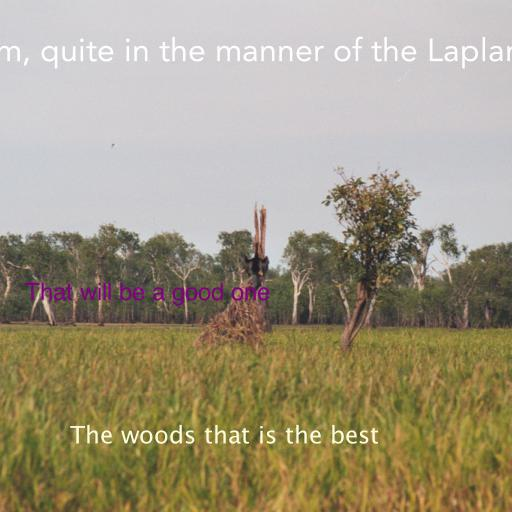Avenir: (0, 36, 512, 69)
Lucida Grande: (69, 424, 379, 444)
SignPainter: (24, 282, 270, 306)
